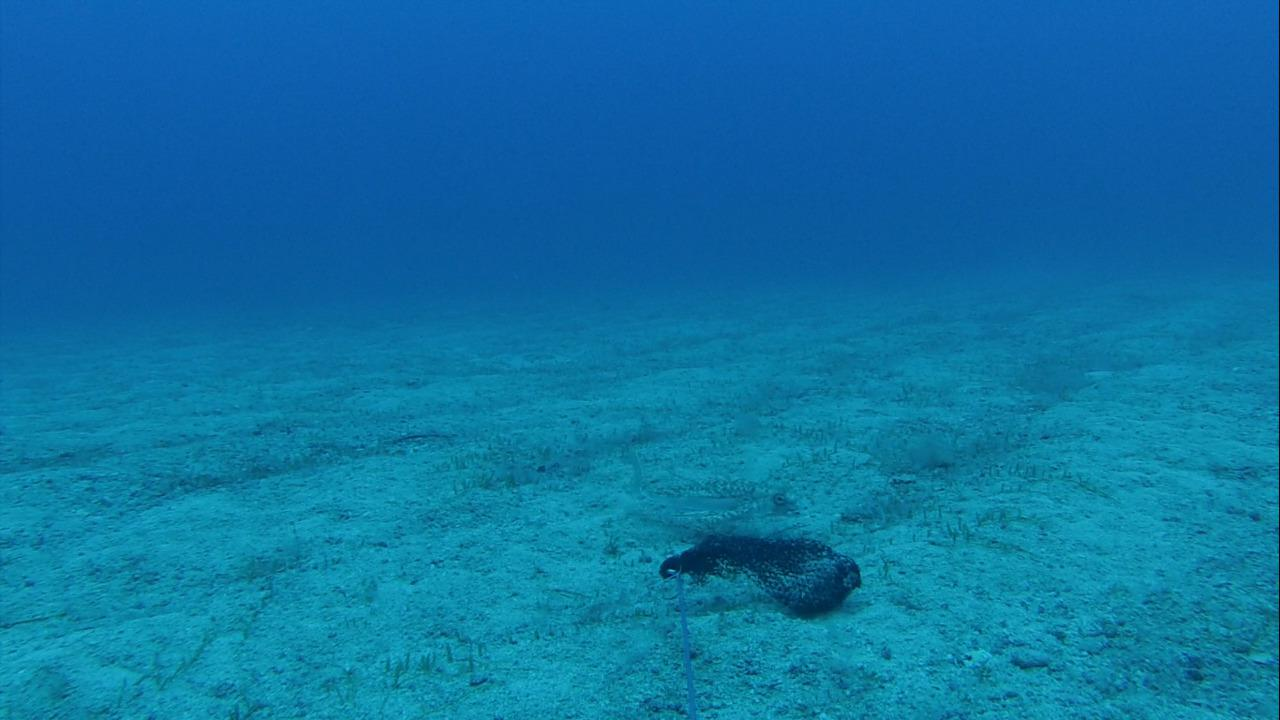dactylopterus: (592, 458, 811, 538)
